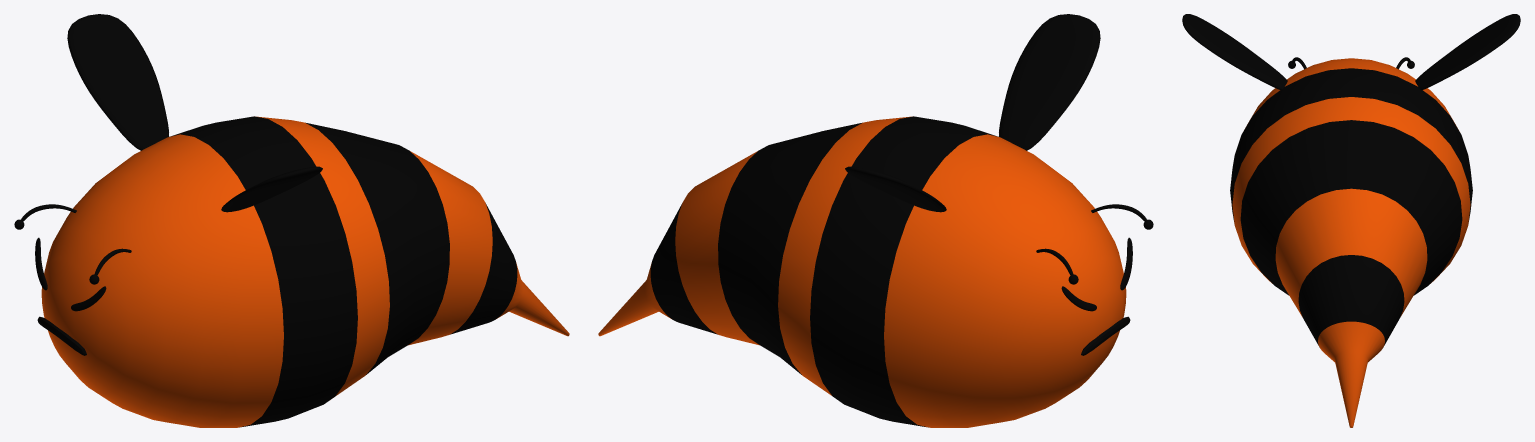
Rendered from badBEE (3).fbx.
3 renders of one model, left to right at view 1: azimuth 30°, elevation 25°; view 2: azimuth 150°, elevation 25°; view 3: azimuth 270°, elevation 25°, orthographic. The views are drawn at different scales.
Visible parts, largest first — view 1: Sphere; view 2: Sphere; view 3: Sphere.
Boxes of the visible parts, <box> form: Sphere: <box>14,14,569,427</box>; Sphere: <box>598,14,1153,427</box>; Sphere: <box>1182,14,1520,427</box>.
Size of the model in its own units: 390 by 241 by 279.
